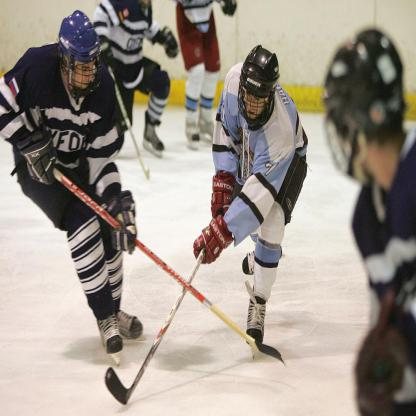face: (242, 80, 270, 125), (74, 50, 99, 95)
